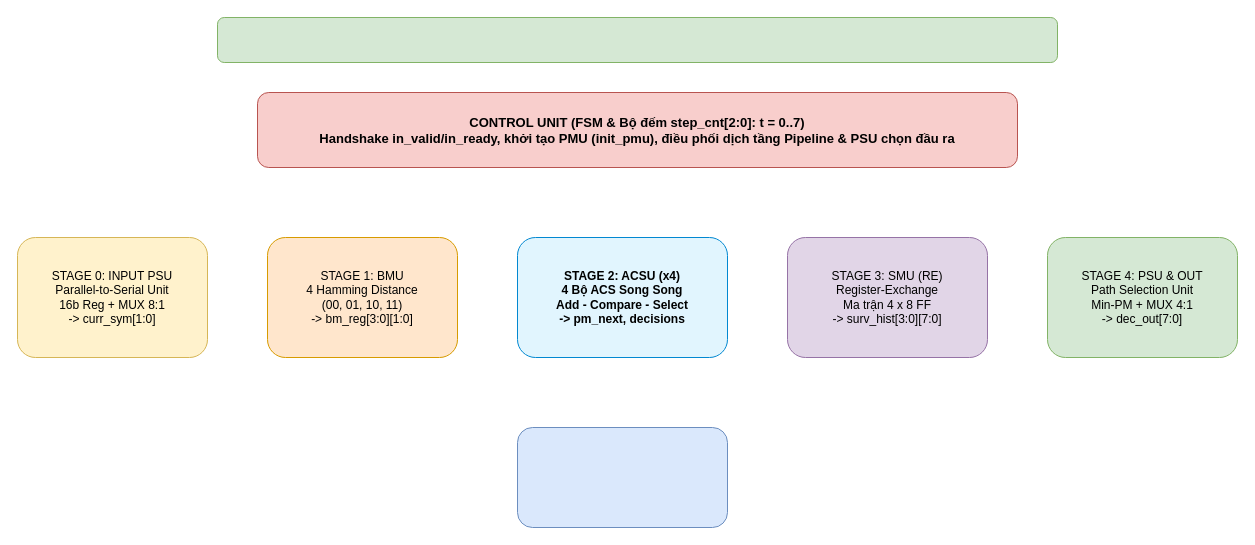
This 1255x545 diagram has some shape labels left out. Here are the shapes that lost their labels. From the top down, the centre of each, then its label:
At point (637, 39): "SƠ ĐỒ KHỐI TỔNG QUAN PHƯƠNG ÁN 2 — KIẾN TRÚC PIPELINE (K=3, R=1/2)".
At point (622, 477): "PMU (1 Bank duy nhất) 4 x 5-bit Flip-Flop Init: PM[0]=0, PM[1..3]=16".
